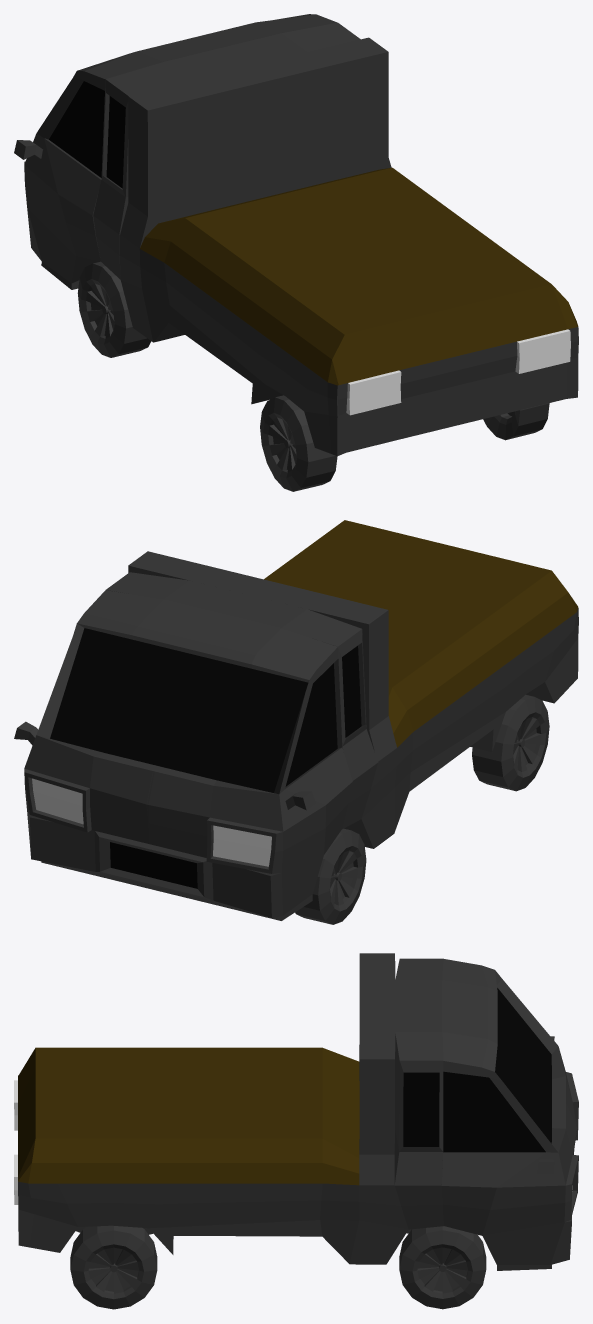
The model's file is Transportcar3.fbx.
3 renders of one model, top to bottom at view 1: azimuth 30°, elevation 25°; view 2: azimuth 150°, elevation 25°; view 3: azimuth 270°, elevation 25°, orthographic. The views are drawn at different scales.
Parts seen in each view (by area): view 1: Car, Back wheel L, Front wheel L, Back wheel R; view 2: Car, Back wheel L, Front wheel L; view 3: Car, Back wheel R, Front wheel R.
Boxes of the visible parts, box(x1,y1,x2,y2) form: Car: box(14, 14, 578, 456); Back wheel L: box(260, 395, 337, 491); Front wheel L: box(77, 261, 151, 357); Back wheel R: box(483, 403, 549, 440); Car: box(14, 520, 578, 920); Back wheel L: box(472, 695, 549, 791); Front wheel L: box(295, 828, 366, 924); Car: box(14, 953, 578, 1270); Back wheel R: box(70, 1225, 157, 1309); Front wheel R: box(399, 1226, 486, 1309).
Bounding box in the file's own units: 228 × 207 × 423.
